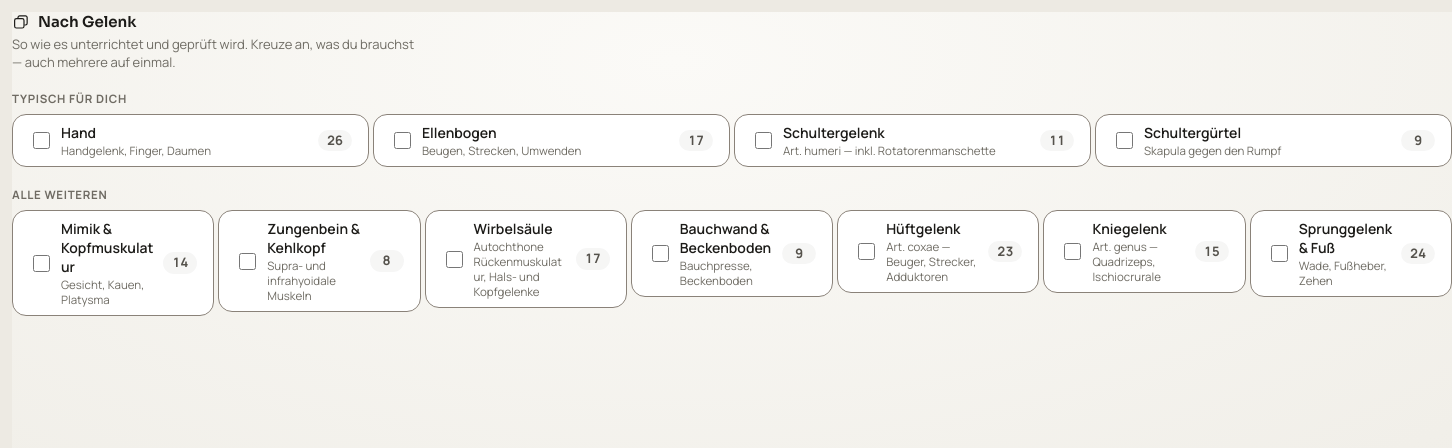
Test: JointGroupPicker › nach dem Anlegen ist die Auswahl leer — kein zweiter Klick legt dasselbe nochmal an
Click the checkbox labelled "Ellenbogen Beugen, Strecken, Umwenden 17": click(402, 140) [394, 132, 411, 149]
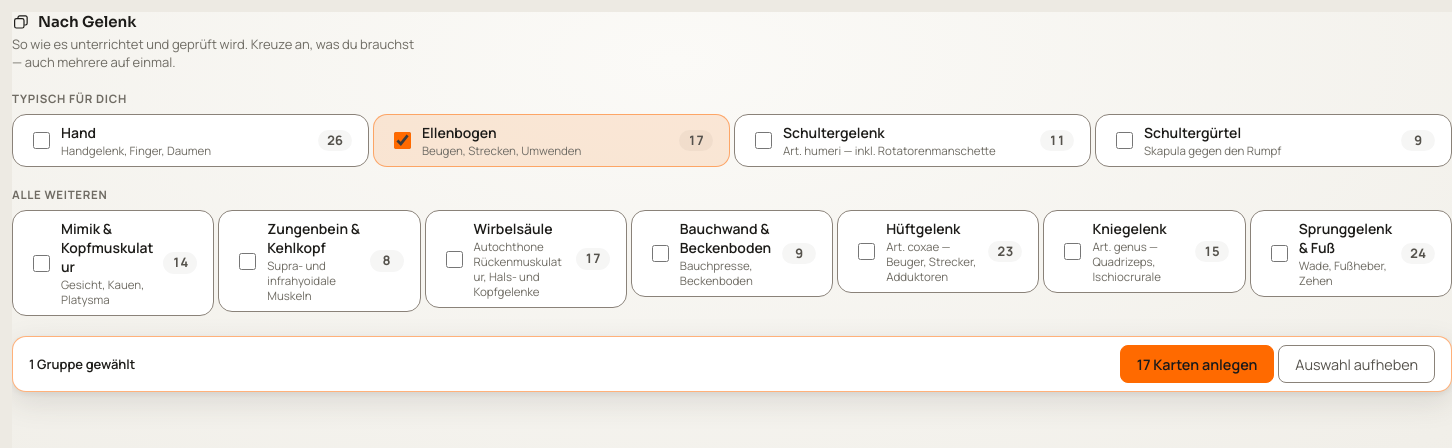
Click the button "17 Karten anlegen": click(1197, 364) [1120, 345, 1274, 383]
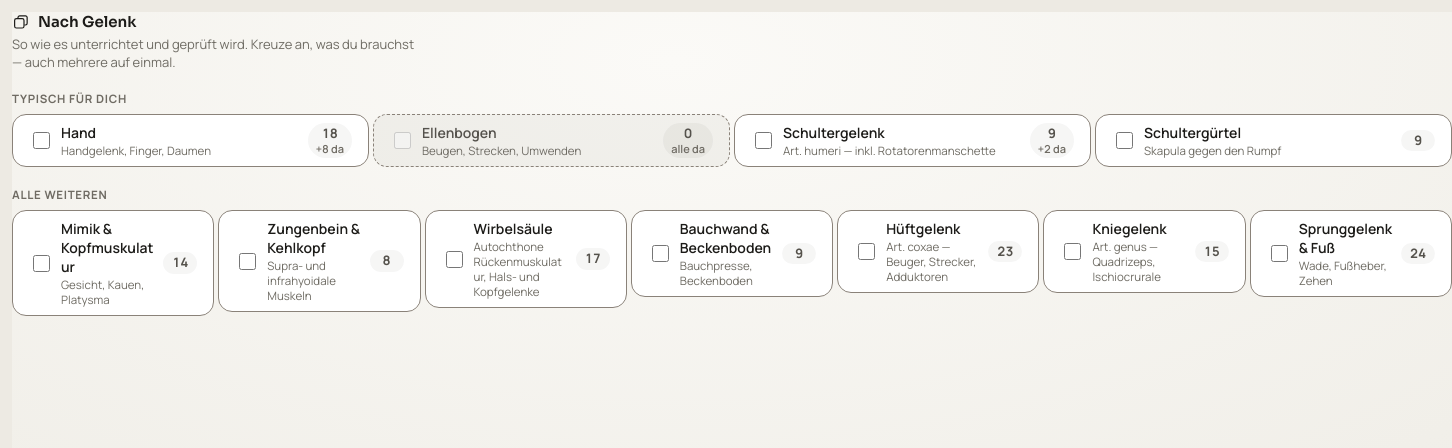
Expected: the checkbox labelled "Ellenbogen Beugen, Strecken, Umwenden 0 alle da" is not checked, [394, 132, 411, 149]
Expected: the button "anlegen" is gone
